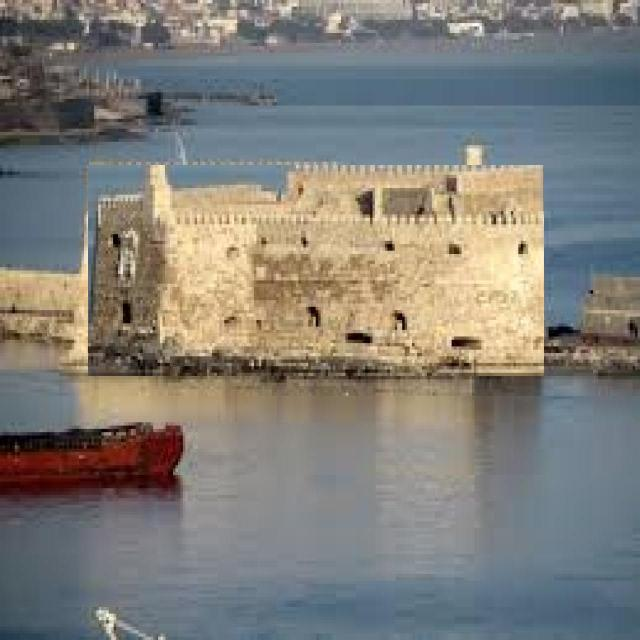Kules: (89, 166, 545, 377)
